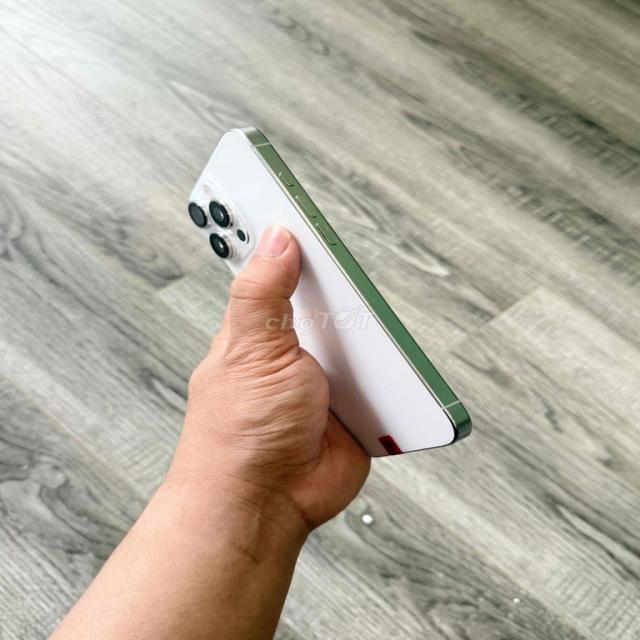gen_16: (188, 128, 470, 456)
